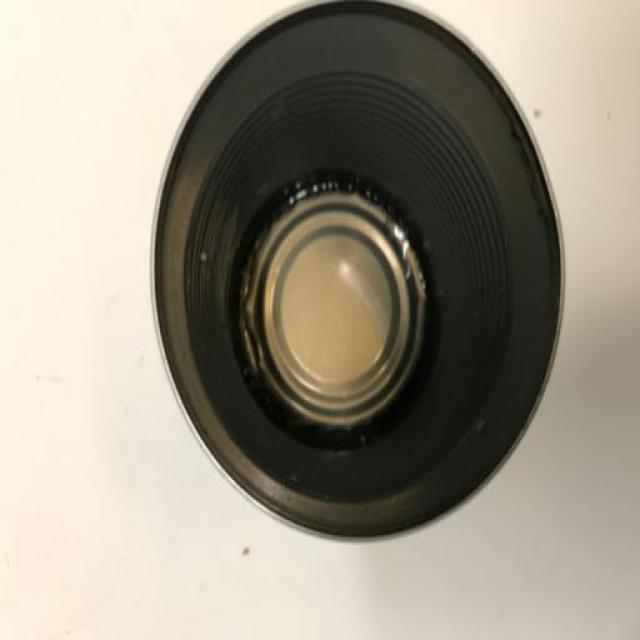metel: (122, 1, 591, 558)
